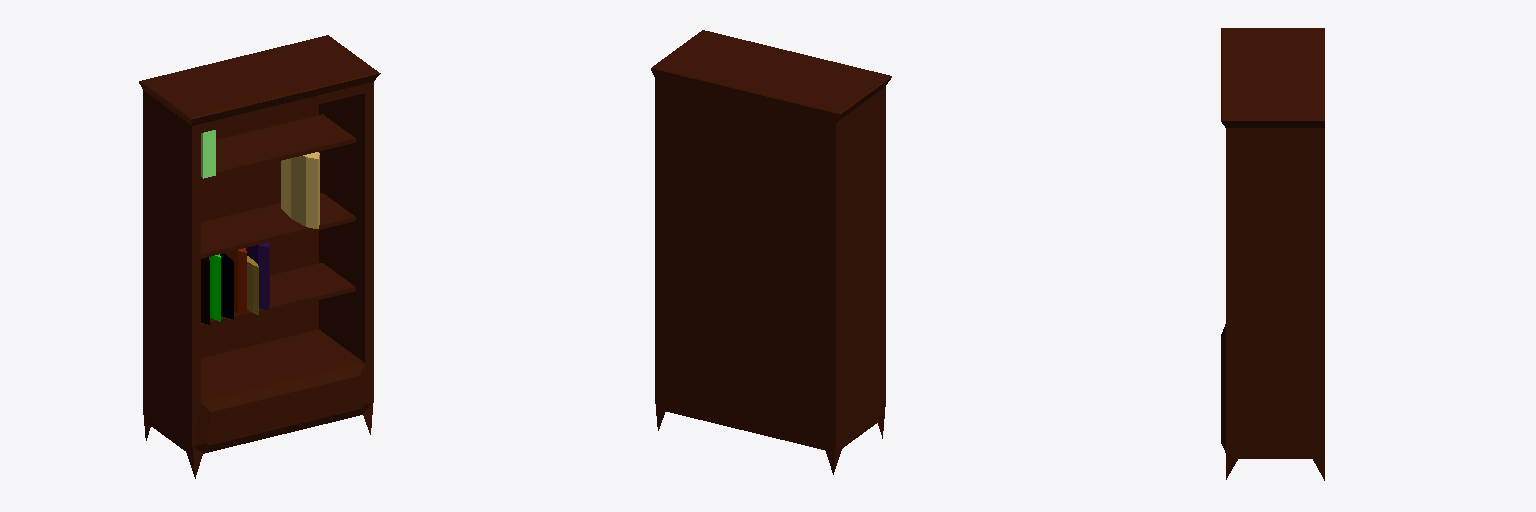
File: bookcase2.obj
The picture shows the model from 3 angles: view 1: azimuth 30°, elevation 25°; view 2: azimuth 150°, elevation 25°; view 3: azimuth 270°, elevation 25°; orthographic projection.
Visible parts, largest first — view 1: Cube_1_1, Cube_1_1_2, Cube_1_2_5, Cube_1_3_6, Cylinder_3_8, Cylinder_3_7_15, Cylinder_3_5_13, Cylinder_3_4_12, Cylinder_3_3_11, Cube_5_7, Cylinder_3_6_14, Cylinder_3_2_10; view 2: Cube_1_1; view 3: Cube_1_1.
Part boxes in pixels (x1,y1,x2,y2): Cube_1_1: (139,35,380,478); Cube_1_1_2: (201,114,355,179); Cube_1_2_5: (201,193,355,258); Cube_1_3_6: (201,263,355,328); Cylinder_3_8: (281,152,319,228); Cylinder_3_7_15: (246,242,269,309); Cylinder_3_5_13: (225,248,246,315); Cylinder_3_4_12: (220,253,233,319); Cylinder_3_3_11: (209,254,220,321); Cube_5_7: (201,130,215,178); Cylinder_3_6_14: (247,256,258,314); Cylinder_3_2_10: (201,257,209,324); Cube_1_1: (651,30,891,474); Cube_1_1: (1221,28,1324,480).
Size of the model in its own units: 81.92 by 150 by 44.13.